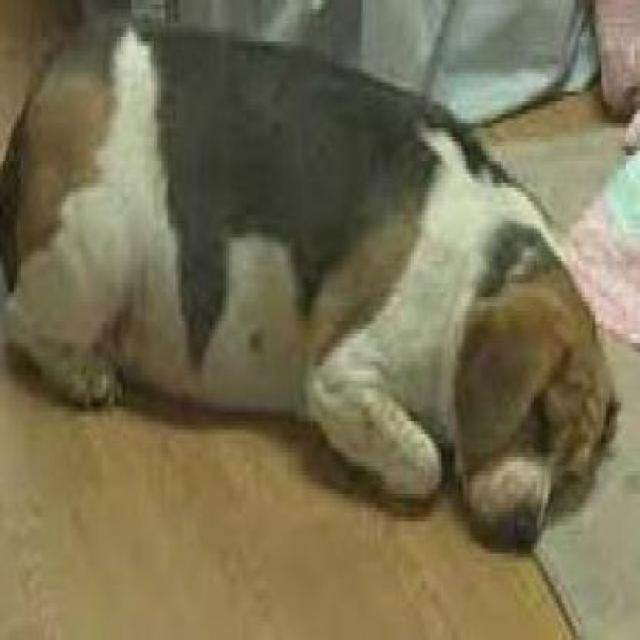Dog: (5, 8, 617, 554)
